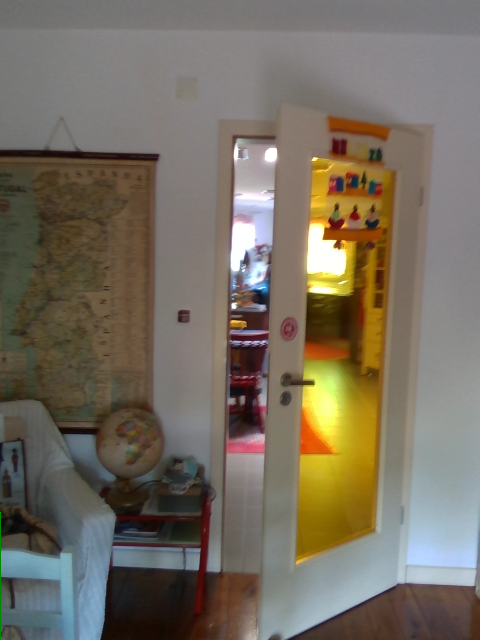semi: (203, 104, 436, 638)
